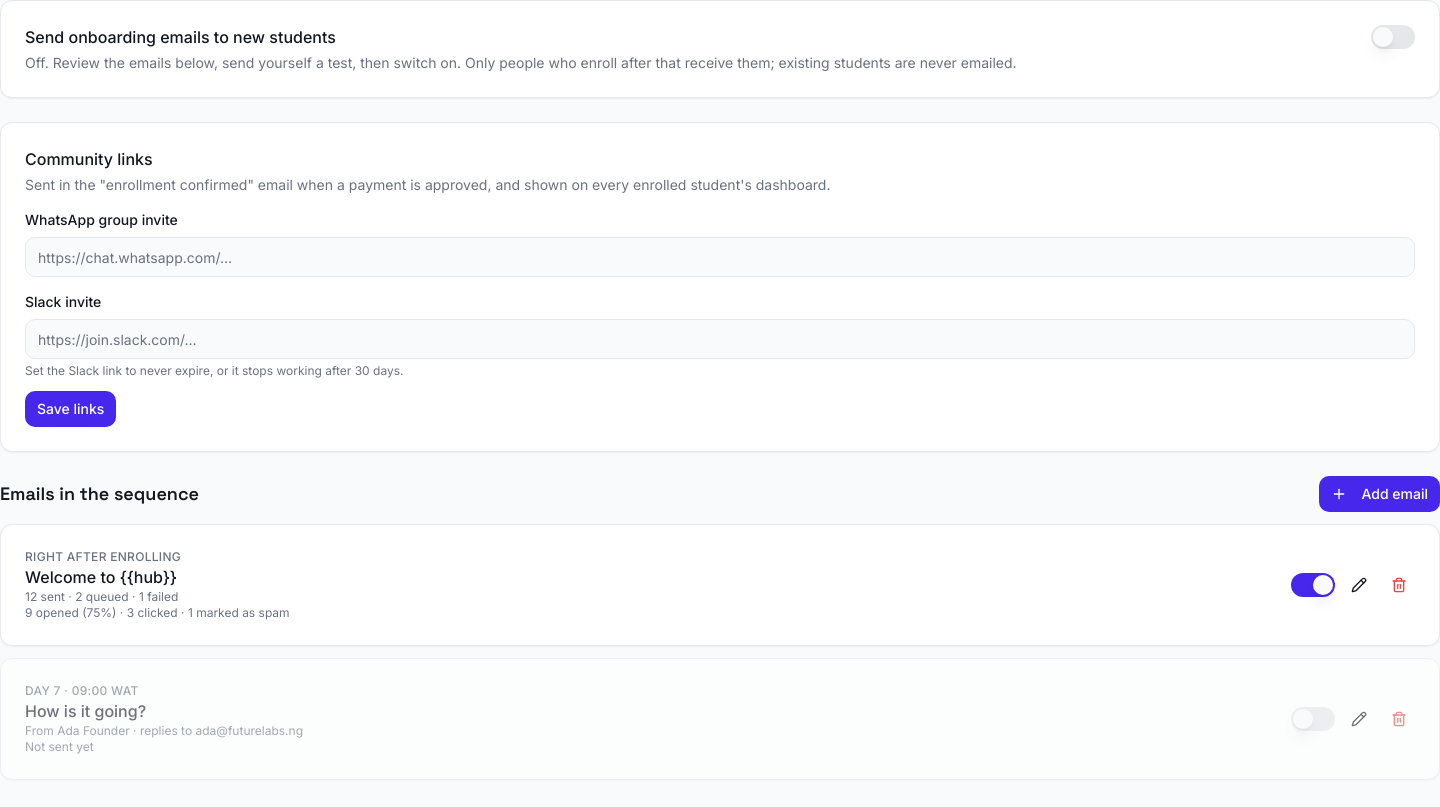
Test: OnboardingPanel › sends a step under a person's name and checks the reply-to address
Later steps or results of the test are not shown.
Expected: the text "From Ada Founder · replies to ada@futurelabs.ng" is shown, left=25, top=723, right=303, bottom=739
Click the button named "Edit “Welcome to {{hub}}”".
click(1359, 585)  # box left=1343, top=569, right=1375, bottom=601
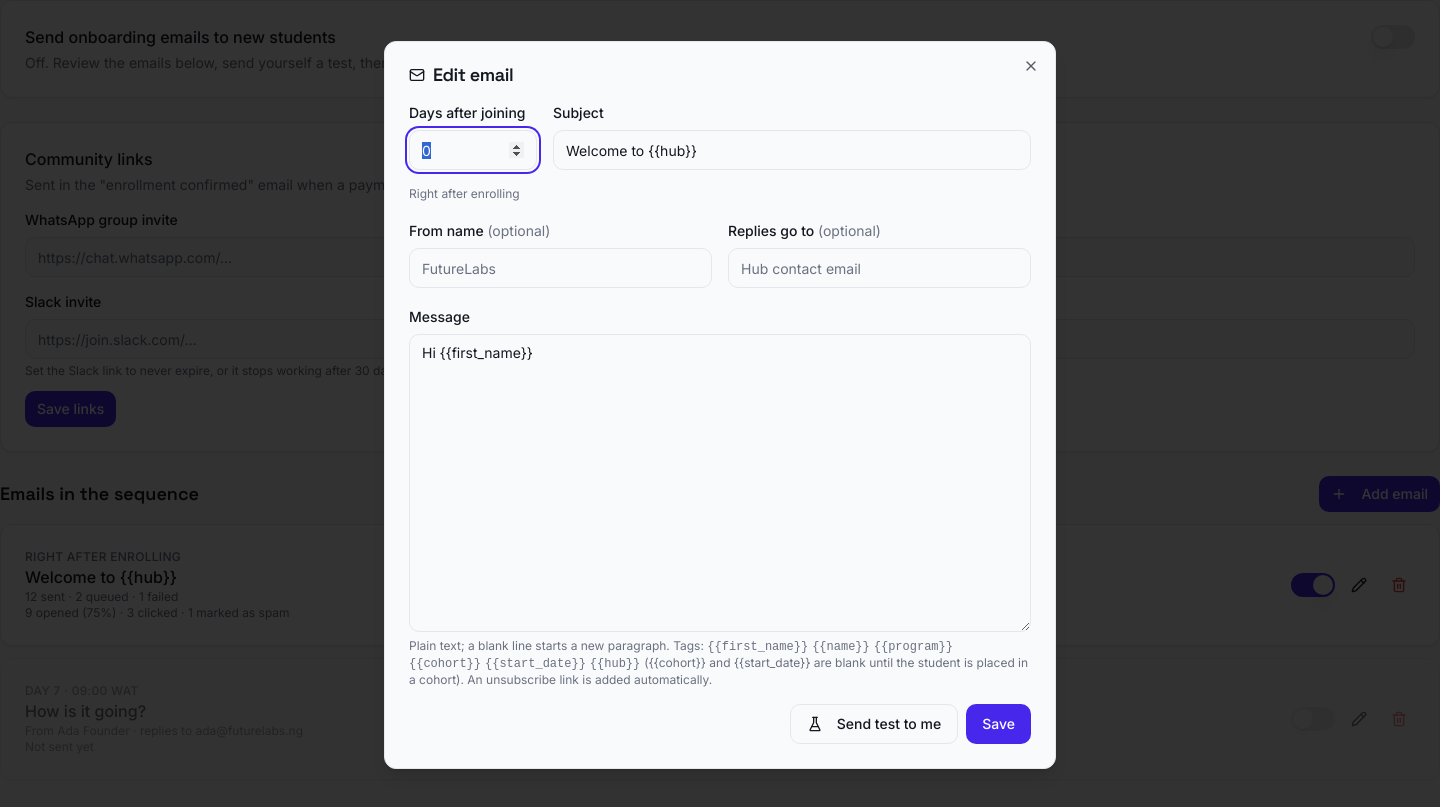
Type " Ada Founder " into the field labelled "From name (optional)".
click(560, 268); type(" Ada Founder ")  # box left=409, top=248, right=712, bottom=288
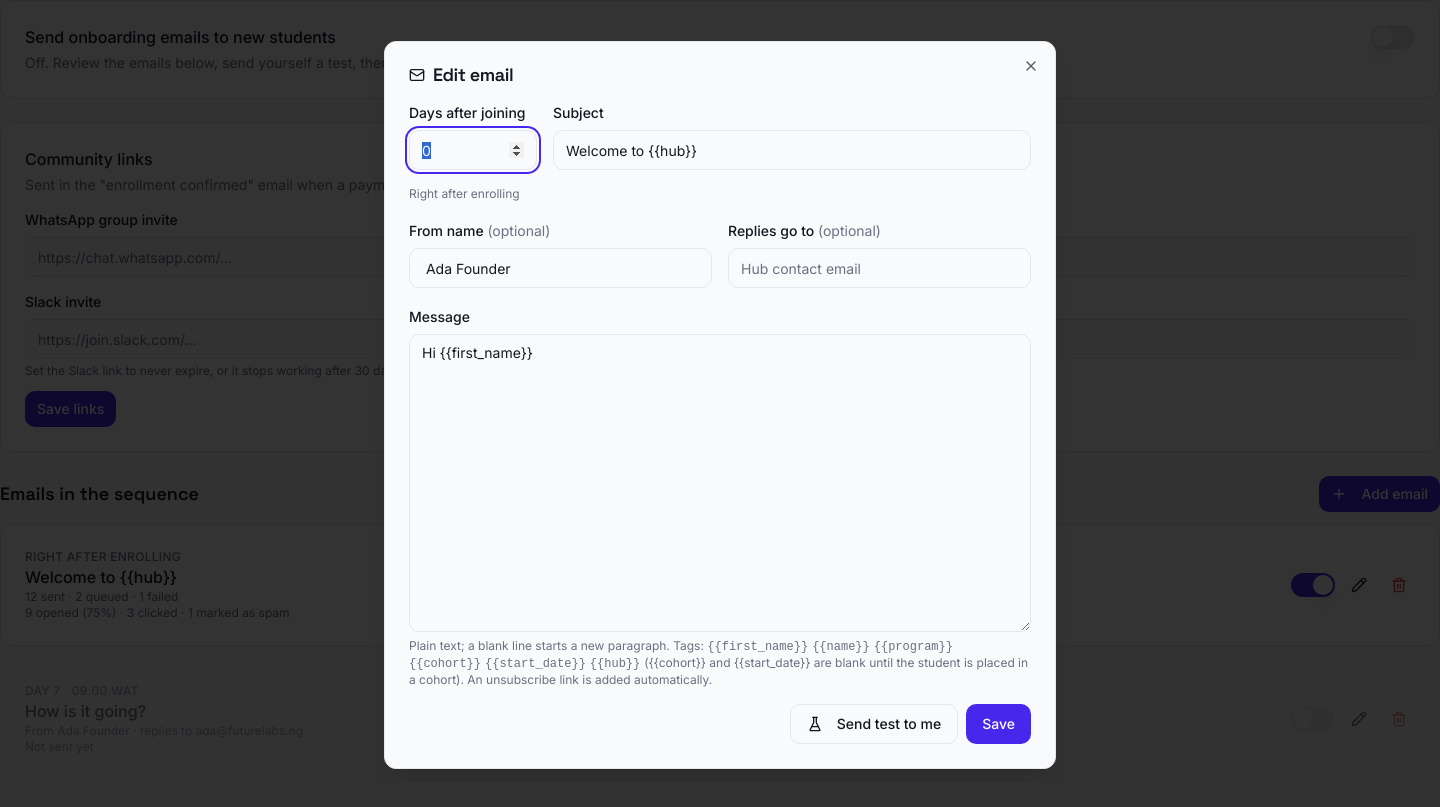
Type "not-an-email" into the field labelled "Replies go to (optional)".
click(880, 268); type("not-an-email")  # box left=728, top=248, right=1031, bottom=288
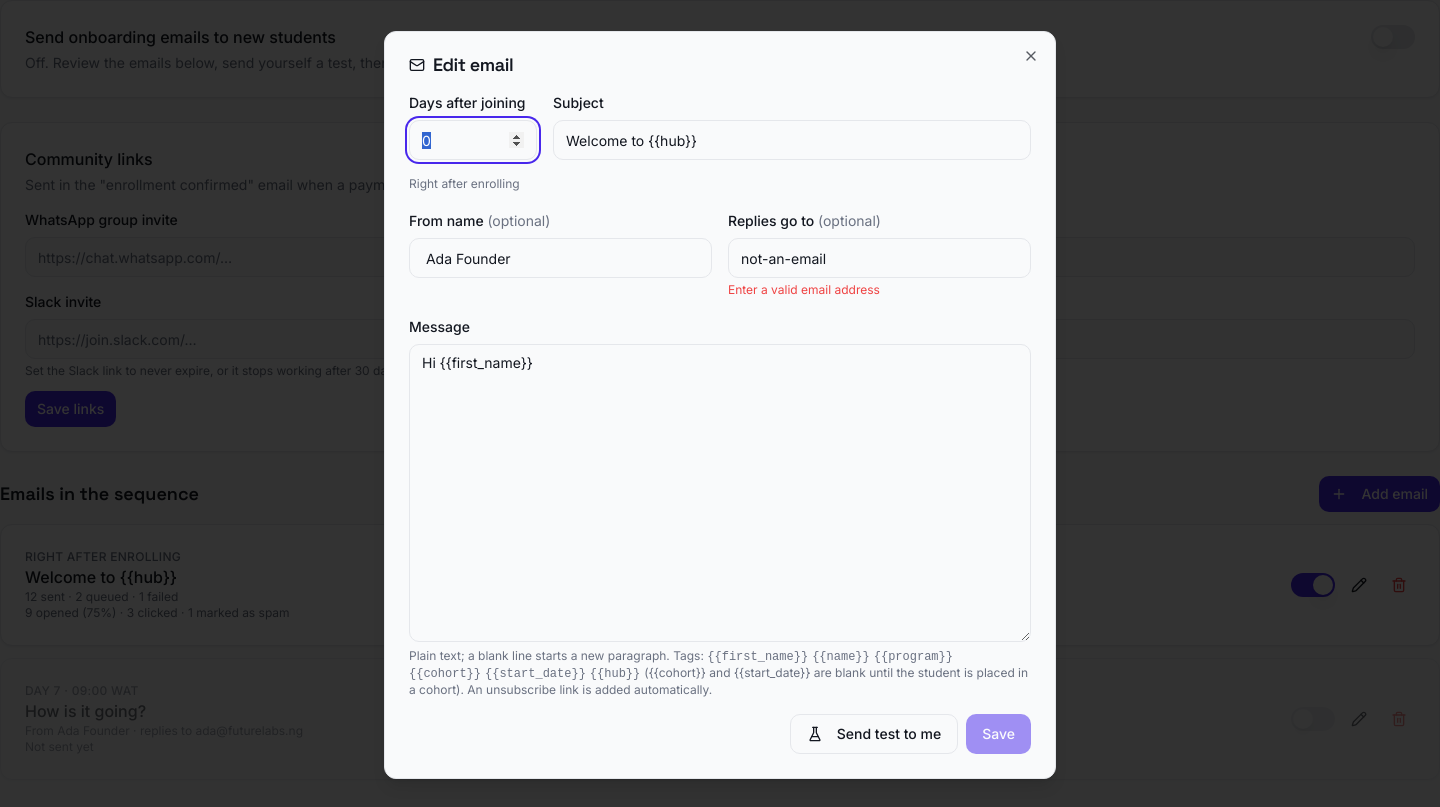
Expected: the text "Enter a valid email address" is shown, left=728, top=282, right=880, bottom=297
Expected: the button "Save" is disabled, left=966, top=714, right=1031, bottom=754
